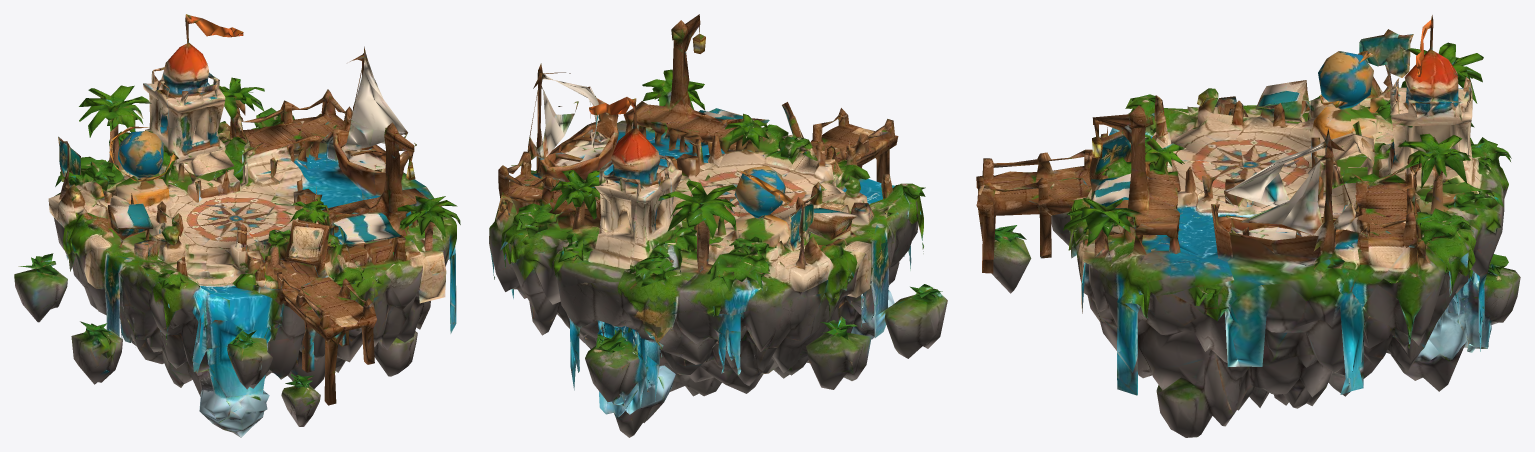
File: pulau-english.glb
The picture shows the model from 3 angles, left to right: view 1: azimuth 30°, elevation 25°; view 2: azimuth 150°, elevation 25°; view 3: azimuth 270°, elevation 25°; orthographic projection. The views are drawn at different scales.
Size of the model in its own units: 1.67 by 1.47 by 1.87.
1 material, 1 textured.
